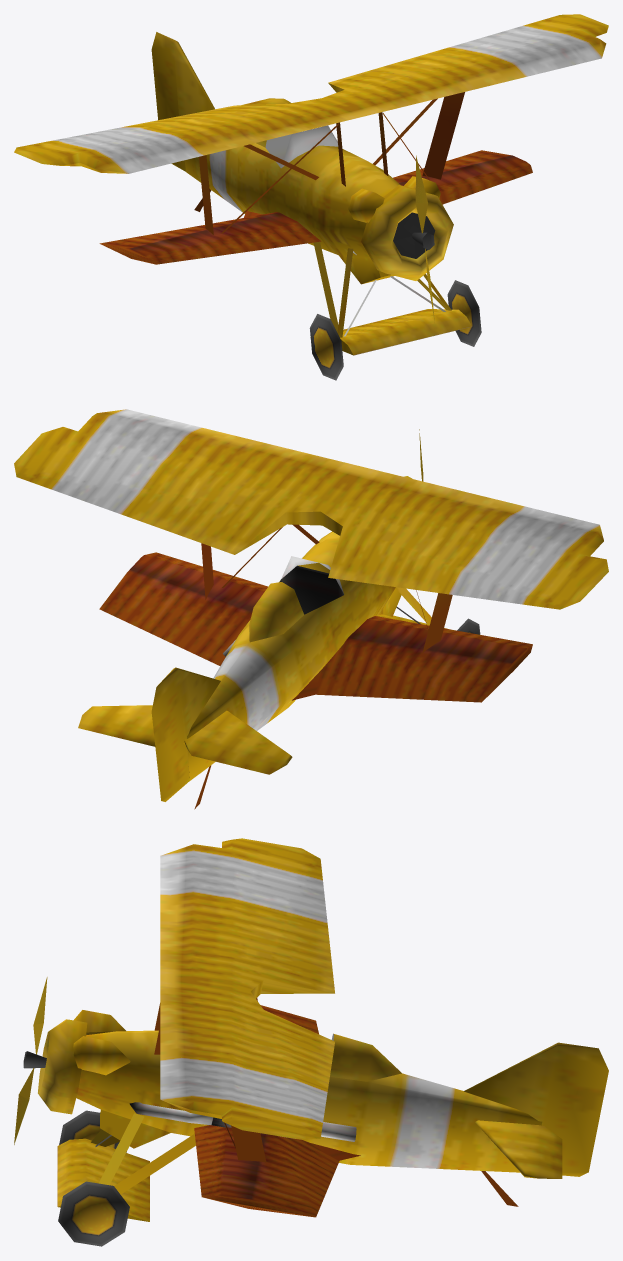
The model's file is sky1.ico.obj.
3 renders of one model, top to bottom at view 1: azimuth 30°, elevation 25°; view 2: azimuth 150°, elevation 25°; view 3: azimuth 270°, elevation 25°, orthographic. The views are drawn at different scales.
Bounding box in the file's own units: 4.94 × 1.88 × 4.25.
Materials: 1 (1 with a texture image).
